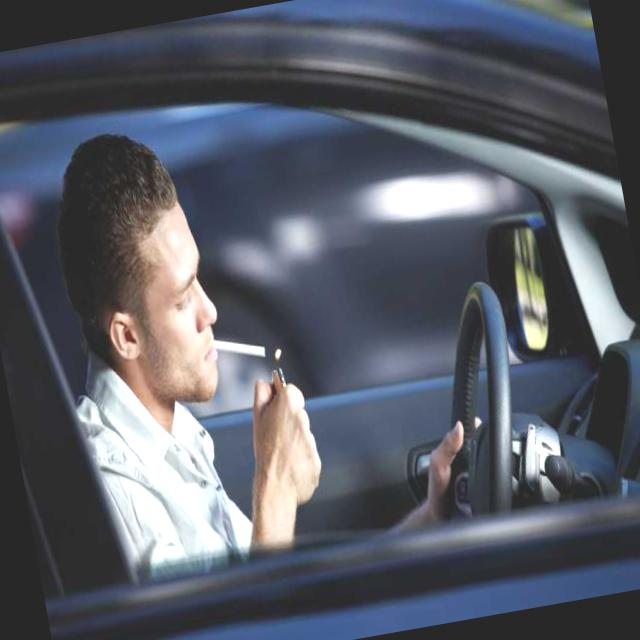smoke: (208, 326, 267, 369)
